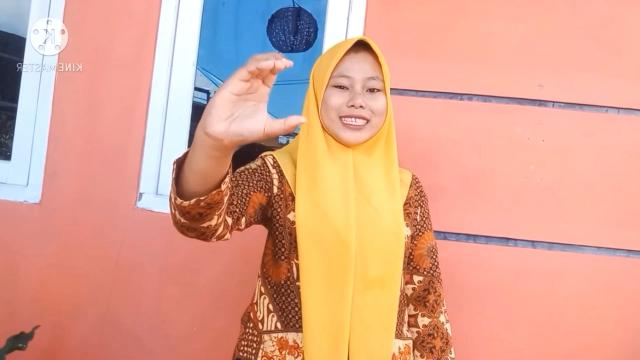C: (198, 51, 310, 155)
